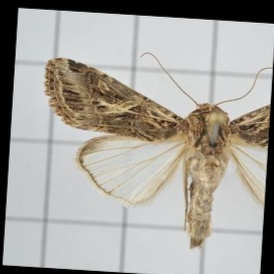Spodoptera litura: (38, 52, 267, 246)
